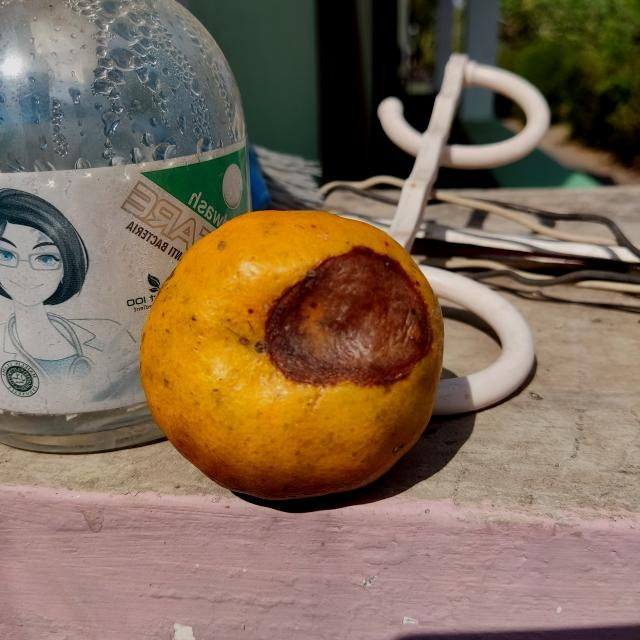agrume: (132, 203, 448, 495)
